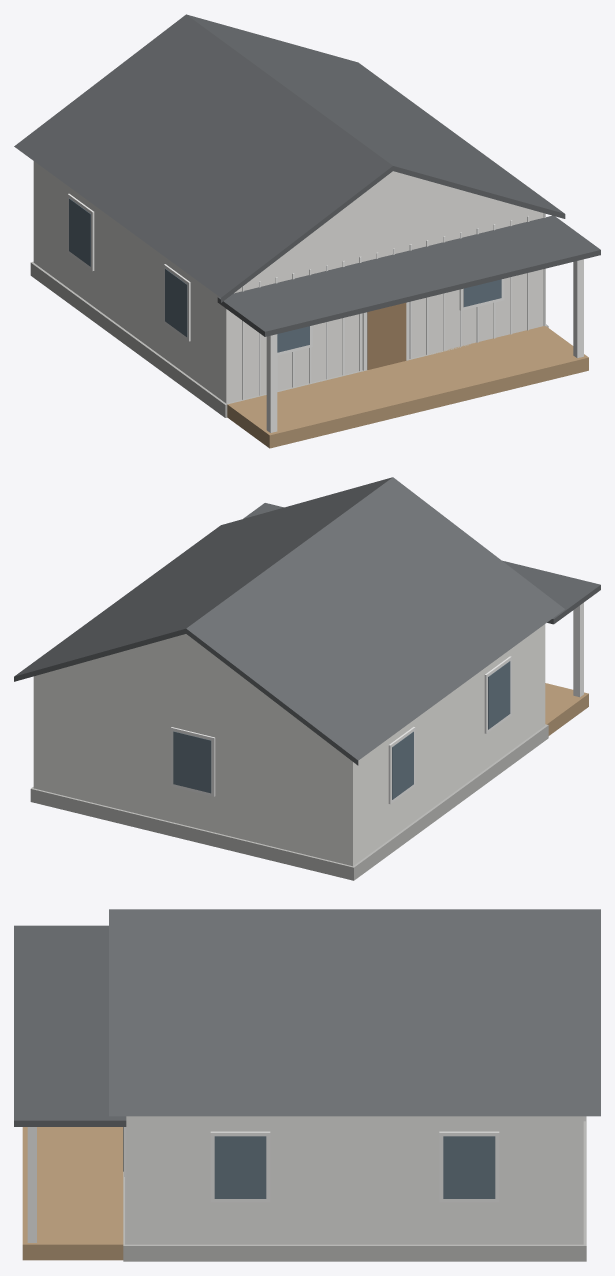
File: two-bed-farmhouse.glb
The picture shows the model from 3 angles, top to bottom: view 1: azimuth 30°, elevation 25°; view 2: azimuth 150°, elevation 25°; view 3: azimuth 270°, elevation 25°; orthographic projection. The views are drawn at different scales.
Visible parts, largest first — view 1: The Manteca (farmhouse); view 2: The Manteca (farmhouse); view 3: The Manteca (farmhouse).
Boxes of the visible parts, x1,y1,x2,y2 form: The Manteca (farmhouse): (14,14,600,448); The Manteca (farmhouse): (14,477,600,880); The Manteca (farmhouse): (14,909,600,1261).
Size of the model in its own units: 8.22 by 4.95 by 10.2.
